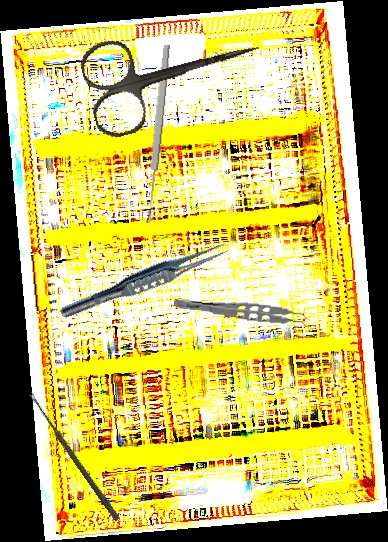Iris Scissors: (76, 3, 272, 142)
Surgical Spoon: (26, 391, 122, 522), (143, 44, 172, 224)
Tissue Forceps: (57, 234, 233, 327), (172, 296, 311, 331)
